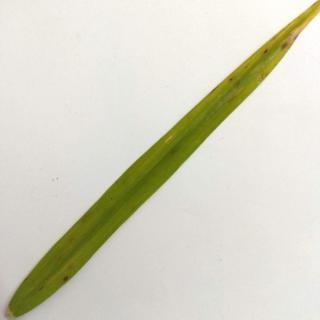bercak-Cokelat: (60, 266, 74, 285), (261, 45, 275, 60), (280, 40, 296, 52), (226, 74, 236, 85)
